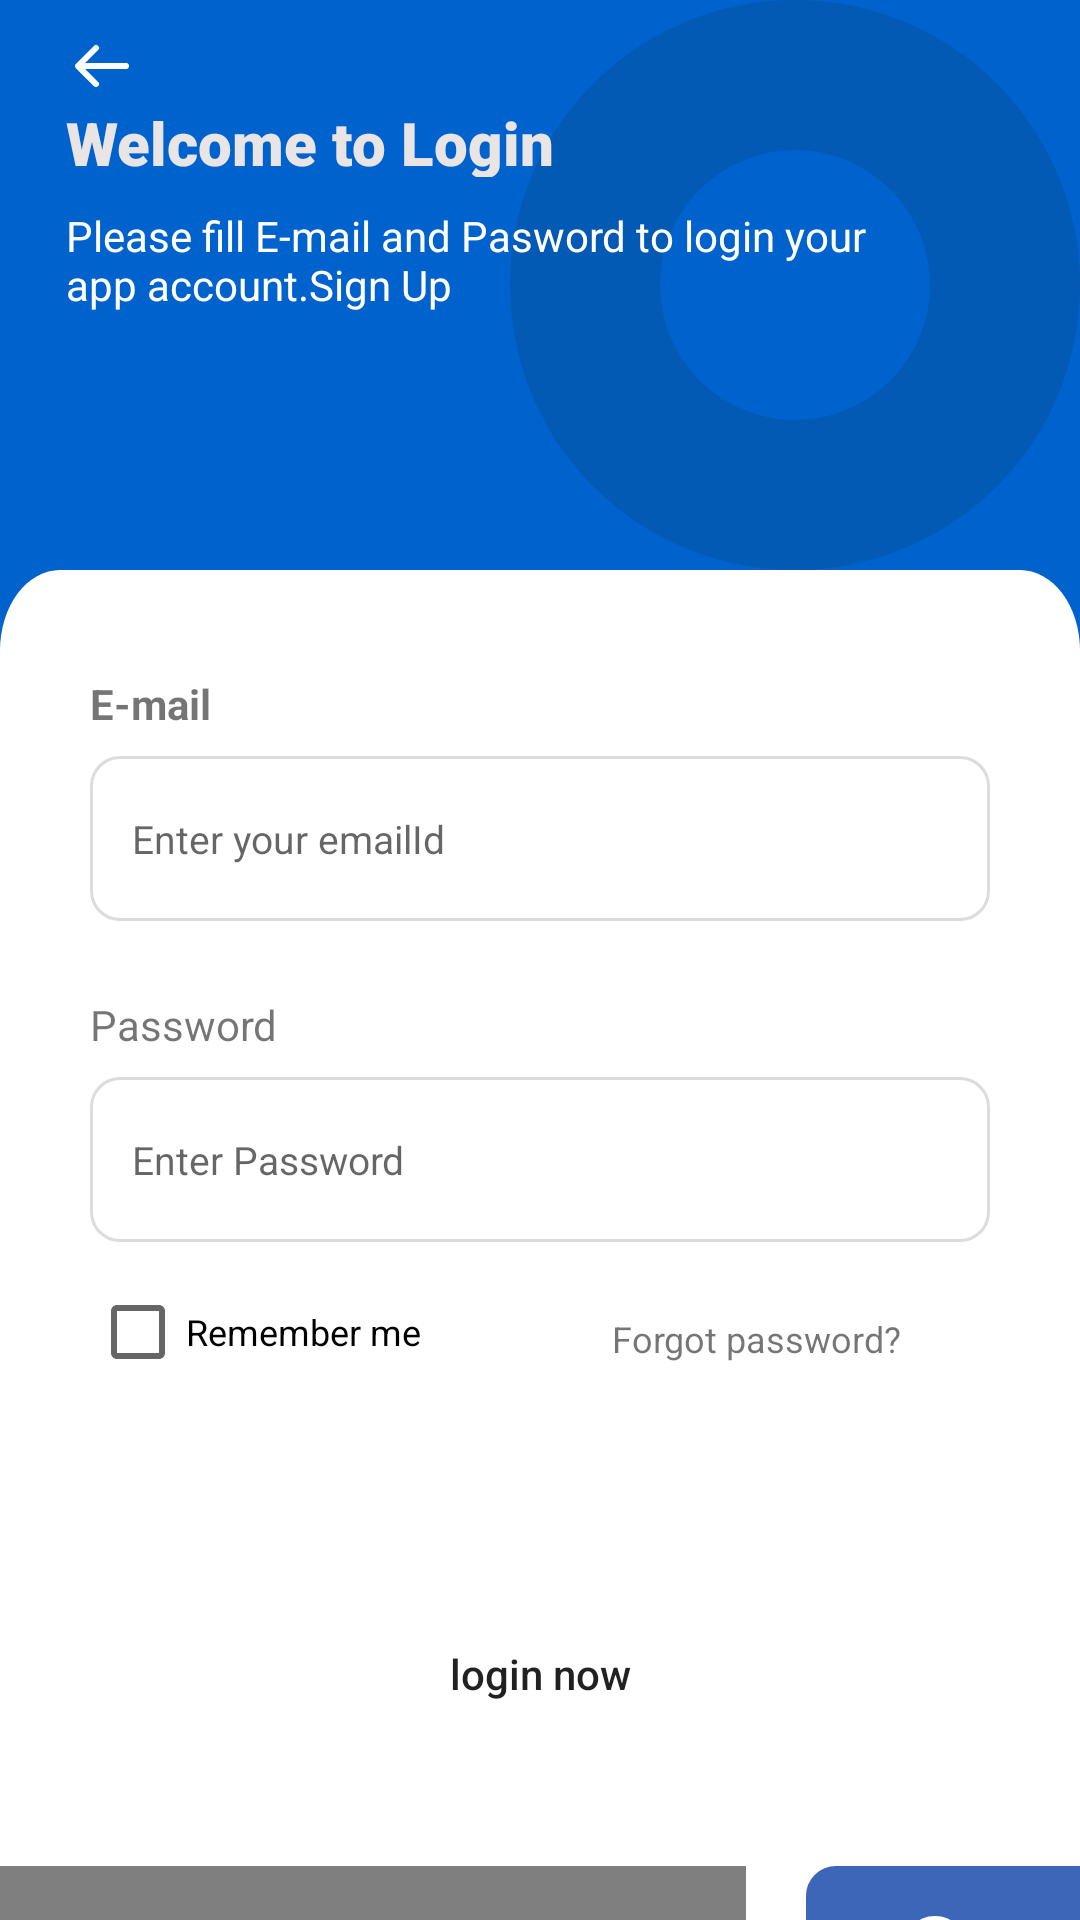

Where icons sit on this 1080px×1920px app screen, as (x1, y1, x2, y2):
arrow: (75, 45, 129, 87)
